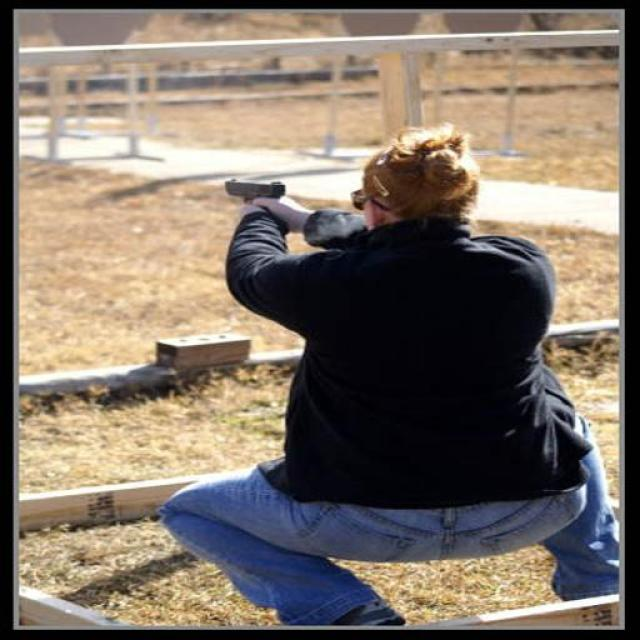pistol: (220, 176, 292, 234)
